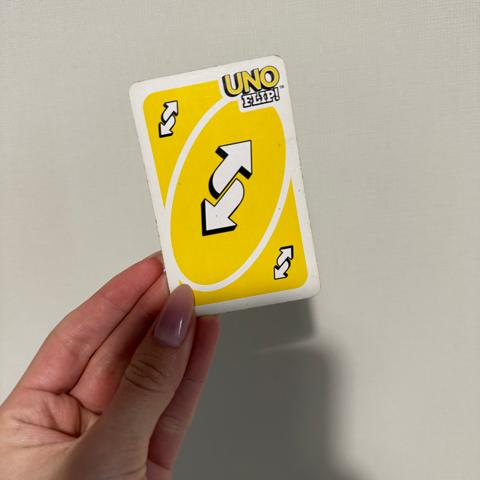draw2_yellow: (192, 127, 260, 233), (264, 236, 301, 284), (147, 94, 184, 141)
